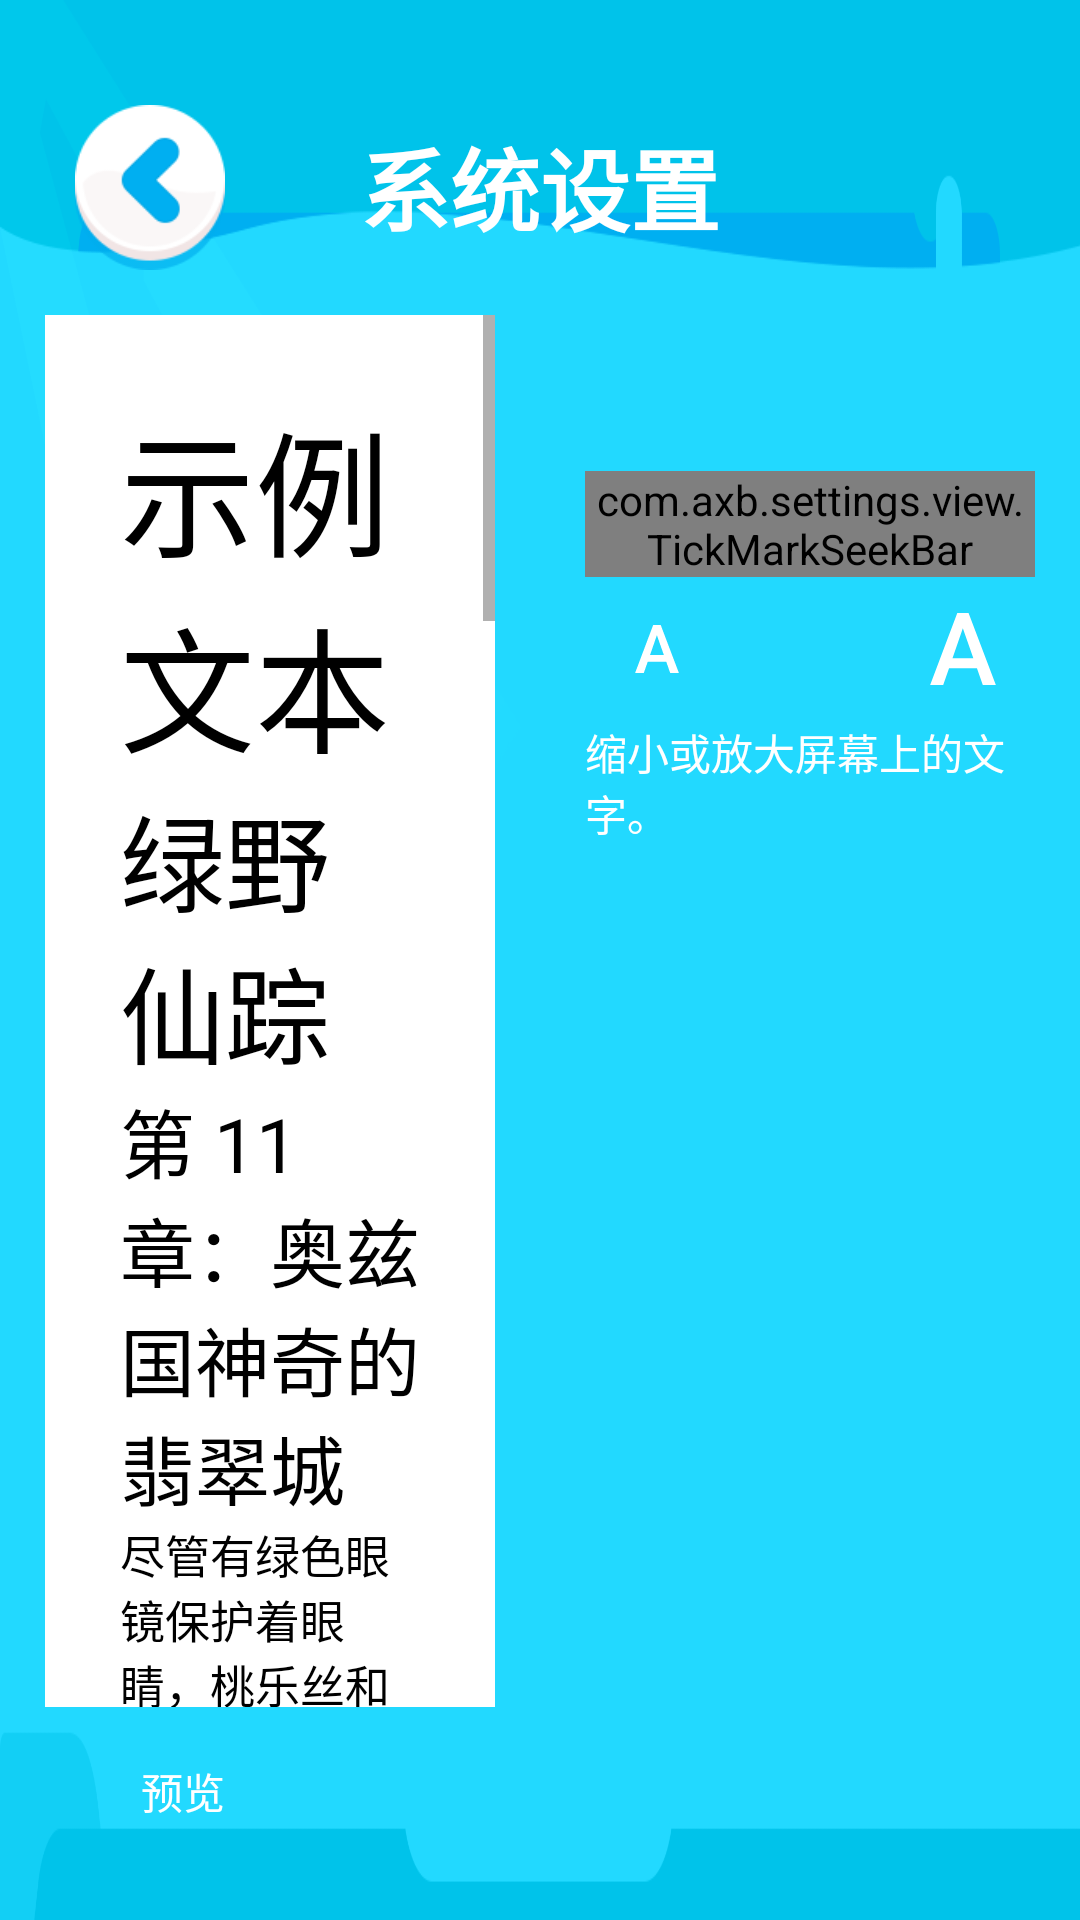

Named icons in this screenshot (1080x1920) and their bounding boxes, Rect(x1, y1, x2, y2):
font size: Rect(930, 613, 996, 685), Rect(635, 625, 679, 673)
